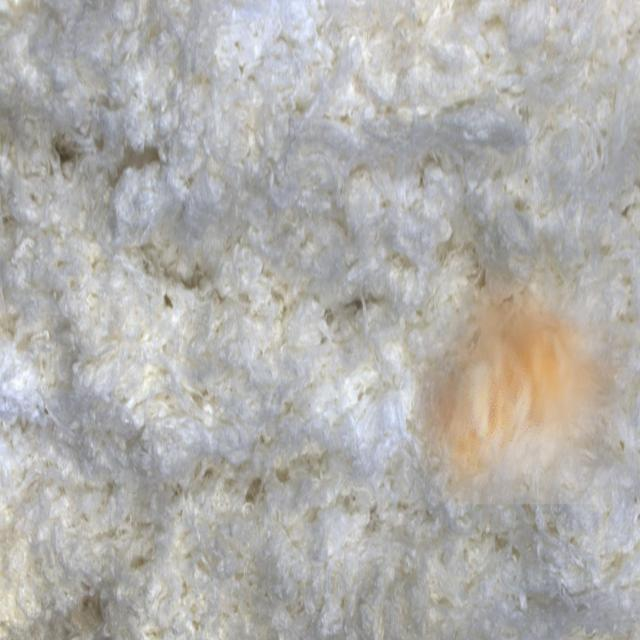dust: (411, 241, 640, 505)
